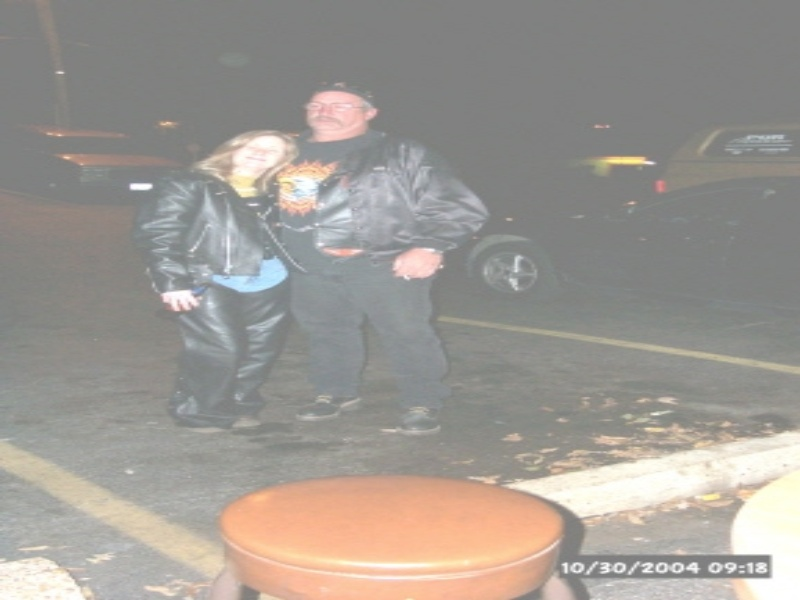car: (455, 178, 800, 316), (1, 128, 183, 203)
person: (270, 79, 489, 435), (133, 130, 297, 433)
